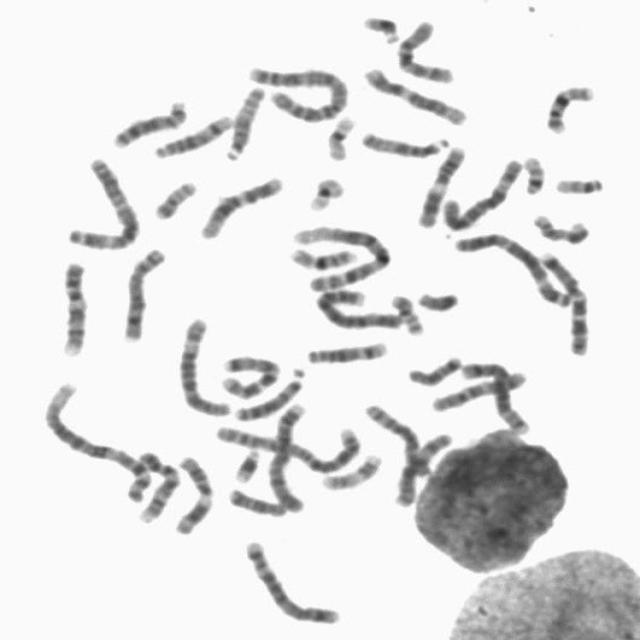A1: (35, 374, 155, 504), (286, 218, 393, 292)
A2: (207, 417, 362, 474), (240, 58, 349, 123)
A3: (447, 226, 575, 308), (59, 151, 142, 252)
B4: (262, 396, 311, 514), (307, 283, 405, 332)
B5: (238, 533, 344, 627), (454, 355, 532, 436)
C10: (423, 362, 530, 413), (389, 14, 457, 84)
C11: (408, 139, 469, 229), (166, 449, 216, 536)
C12: (357, 60, 470, 127), (192, 169, 286, 240)
C6: (435, 152, 526, 231), (171, 312, 233, 418)
C7: (532, 245, 593, 356), (214, 347, 284, 401)
C8: (357, 396, 432, 479), (114, 240, 168, 344)
C9: (129, 444, 182, 524), (52, 254, 90, 358)
D13: (226, 362, 308, 423), (105, 94, 189, 150)
D14: (146, 108, 235, 160), (300, 335, 391, 365)
D15: (217, 79, 266, 162), (353, 123, 451, 159)
E16: (537, 78, 598, 136), (282, 240, 360, 271)
E17: (314, 448, 384, 492), (525, 207, 592, 245)
E18: (400, 348, 464, 388), (222, 481, 289, 518)
F19: (319, 109, 358, 162), (301, 170, 347, 213)
F20: (147, 173, 200, 221), (384, 288, 426, 337)
G21: (356, 8, 402, 45), (226, 443, 262, 483)
G22: (516, 148, 547, 196), (547, 170, 606, 195)
X: (387, 426, 454, 509)
Y: (411, 284, 460, 312)
